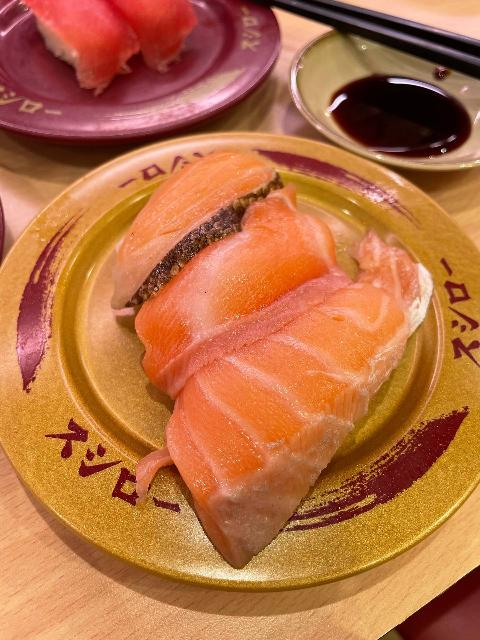jangold: (39, 144, 452, 565)
janred: (8, 8, 266, 132)
